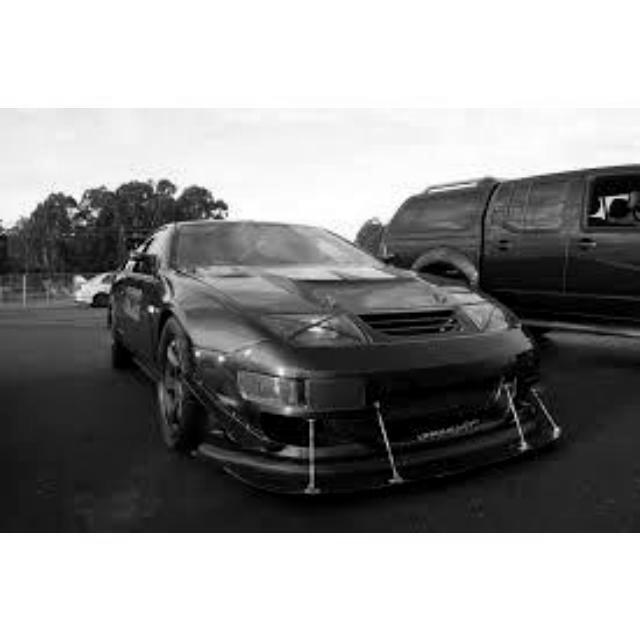front-bumper-dent: (233, 413, 551, 482)
